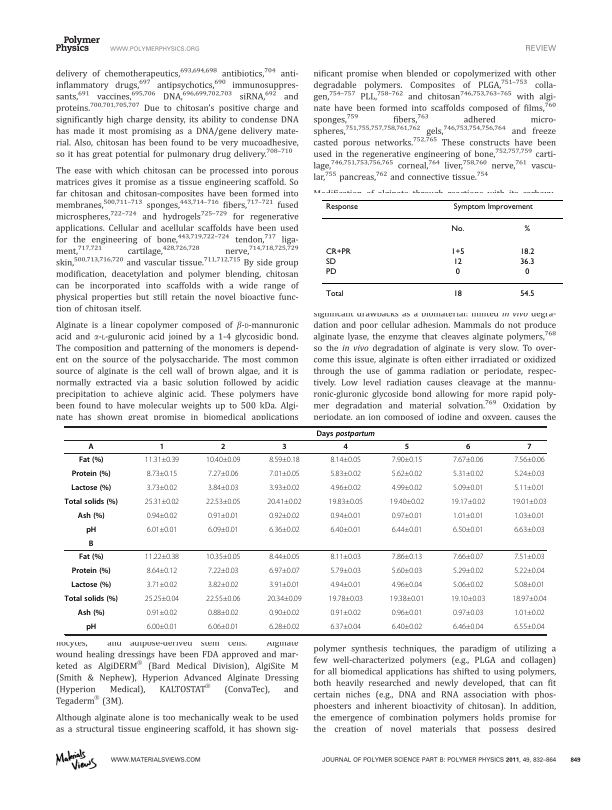borderless: (64, 425, 546, 634), (320, 198, 564, 307)
cell: (452, 203, 533, 212), (64, 497, 119, 507), (64, 594, 119, 604), (316, 429, 376, 438), (70, 483, 112, 493), (70, 580, 112, 590), (71, 469, 111, 479), (71, 566, 111, 576), (324, 203, 358, 212), (77, 511, 105, 521), (77, 608, 105, 618), (324, 247, 351, 257), (78, 455, 104, 465), (78, 552, 104, 562), (144, 456, 180, 463), (205, 456, 241, 463), (144, 498, 180, 505), (205, 498, 241, 505), (266, 498, 302, 505), (328, 498, 364, 505), (389, 498, 425, 505), (450, 498, 486, 505), (511, 498, 547, 505), (144, 553, 180, 560), (205, 553, 241, 560), (144, 595, 180, 602), (205, 595, 241, 602), (266, 595, 302, 602), (328, 595, 364, 602), (389, 595, 425, 602), (450, 595, 486, 602), (511, 595, 547, 602), (268, 456, 301, 463), (329, 456, 362, 463), (513, 456, 546, 463), (268, 470, 301, 477), (329, 470, 362, 477), (513, 470, 546, 477), (268, 484, 301, 491), (329, 484, 362, 491), (513, 484, 546, 491), (268, 512, 301, 519), (329, 512, 362, 519), (513, 512, 546, 519), (268, 526, 301, 533), (329, 526, 362, 533), (513, 526, 546, 533), (268, 553, 301, 560), (329, 553, 362, 560), (513, 553, 546, 560), (268, 567, 301, 574), (329, 567, 362, 574), (513, 567, 546, 574), (268, 581, 301, 588), (329, 581, 362, 588), (513, 581, 546, 588), (268, 609, 301, 616), (329, 609, 362, 616), (513, 609, 546, 616), (268, 623, 301, 630), (329, 623, 362, 630), (513, 623, 546, 630), (391, 456, 423, 463), (452, 456, 484, 463), (146, 470, 178, 477), (207, 470, 239, 477), (391, 470, 423, 477), (452, 470, 484, 477), (146, 484, 178, 491), (207, 484, 239, 491), (391, 484, 423, 491), (452, 484, 484, 491), (146, 512, 178, 519), (207, 512, 239, 519), (391, 512, 423, 519), (452, 512, 484, 519), (146, 526, 178, 533), (207, 526, 239, 533), (391, 526, 423, 533), (452, 526, 484, 533), (391, 553, 423, 560), (452, 553, 484, 560), (146, 567, 178, 574), (207, 567, 239, 574), (391, 567, 423, 574), (452, 567, 484, 574), (146, 581, 178, 588), (207, 581, 239, 588), (391, 581, 423, 588), (452, 581, 484, 588), (146, 609, 178, 616), (207, 609, 239, 616), (391, 609, 423, 616), (452, 609, 484, 616), (146, 623, 178, 630), (207, 623, 239, 630), (391, 623, 423, 630), (452, 623, 484, 630), (324, 290, 344, 299), (519, 247, 535, 257), (519, 257, 535, 267), (450, 247, 465, 257), (519, 290, 535, 299), (450, 225, 465, 234), (85, 525, 97, 535), (85, 622, 97, 632), (324, 257, 336, 267), (324, 268, 337, 277), (452, 257, 462, 267), (452, 290, 462, 299), (523, 225, 531, 234), (88, 442, 95, 452), (342, 442, 349, 452), (159, 442, 165, 452), (220, 442, 226, 452), (281, 442, 287, 452), (404, 442, 410, 452), (465, 442, 471, 452), (526, 442, 532, 452), (88, 539, 94, 549), (454, 268, 460, 277), (524, 268, 530, 277)
